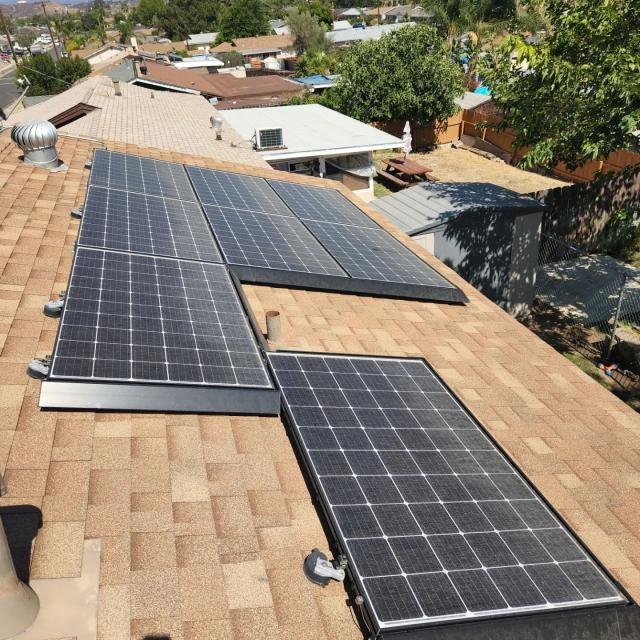dust-solar-panel: (48, 149, 625, 627)
